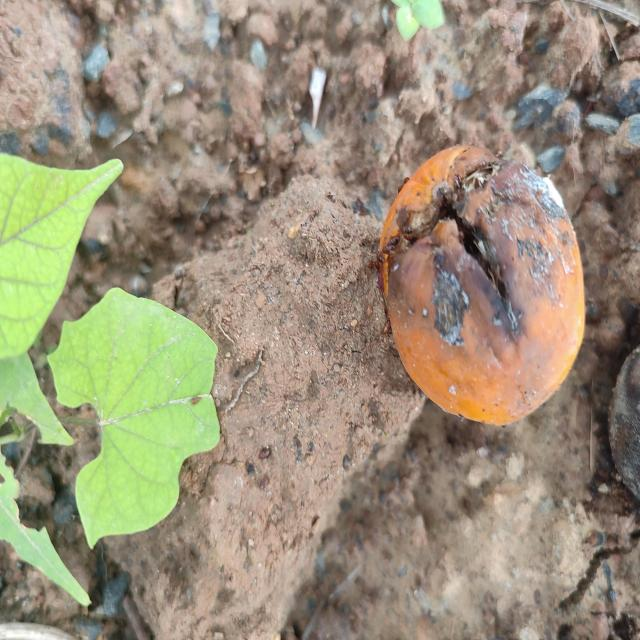damaged: (375, 145, 586, 427)
